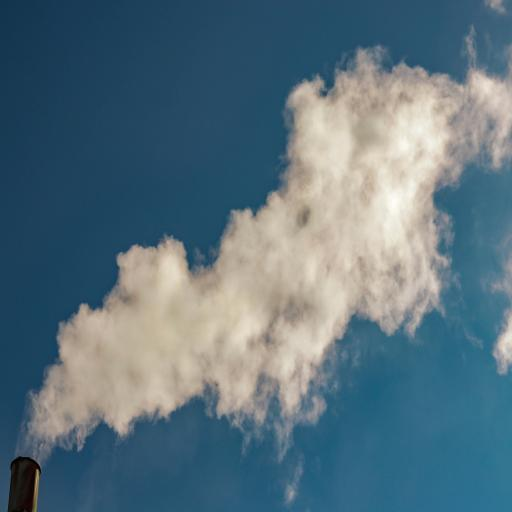smoke: (18, 87, 512, 422)
